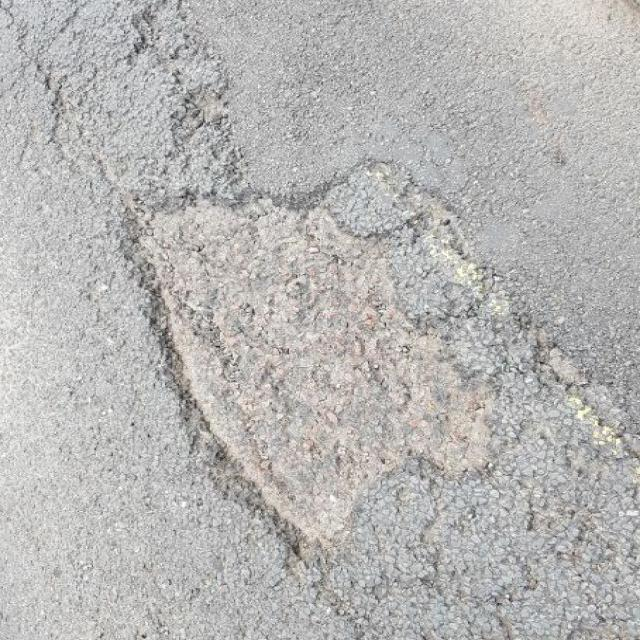pothole: (103, 153, 564, 562)
